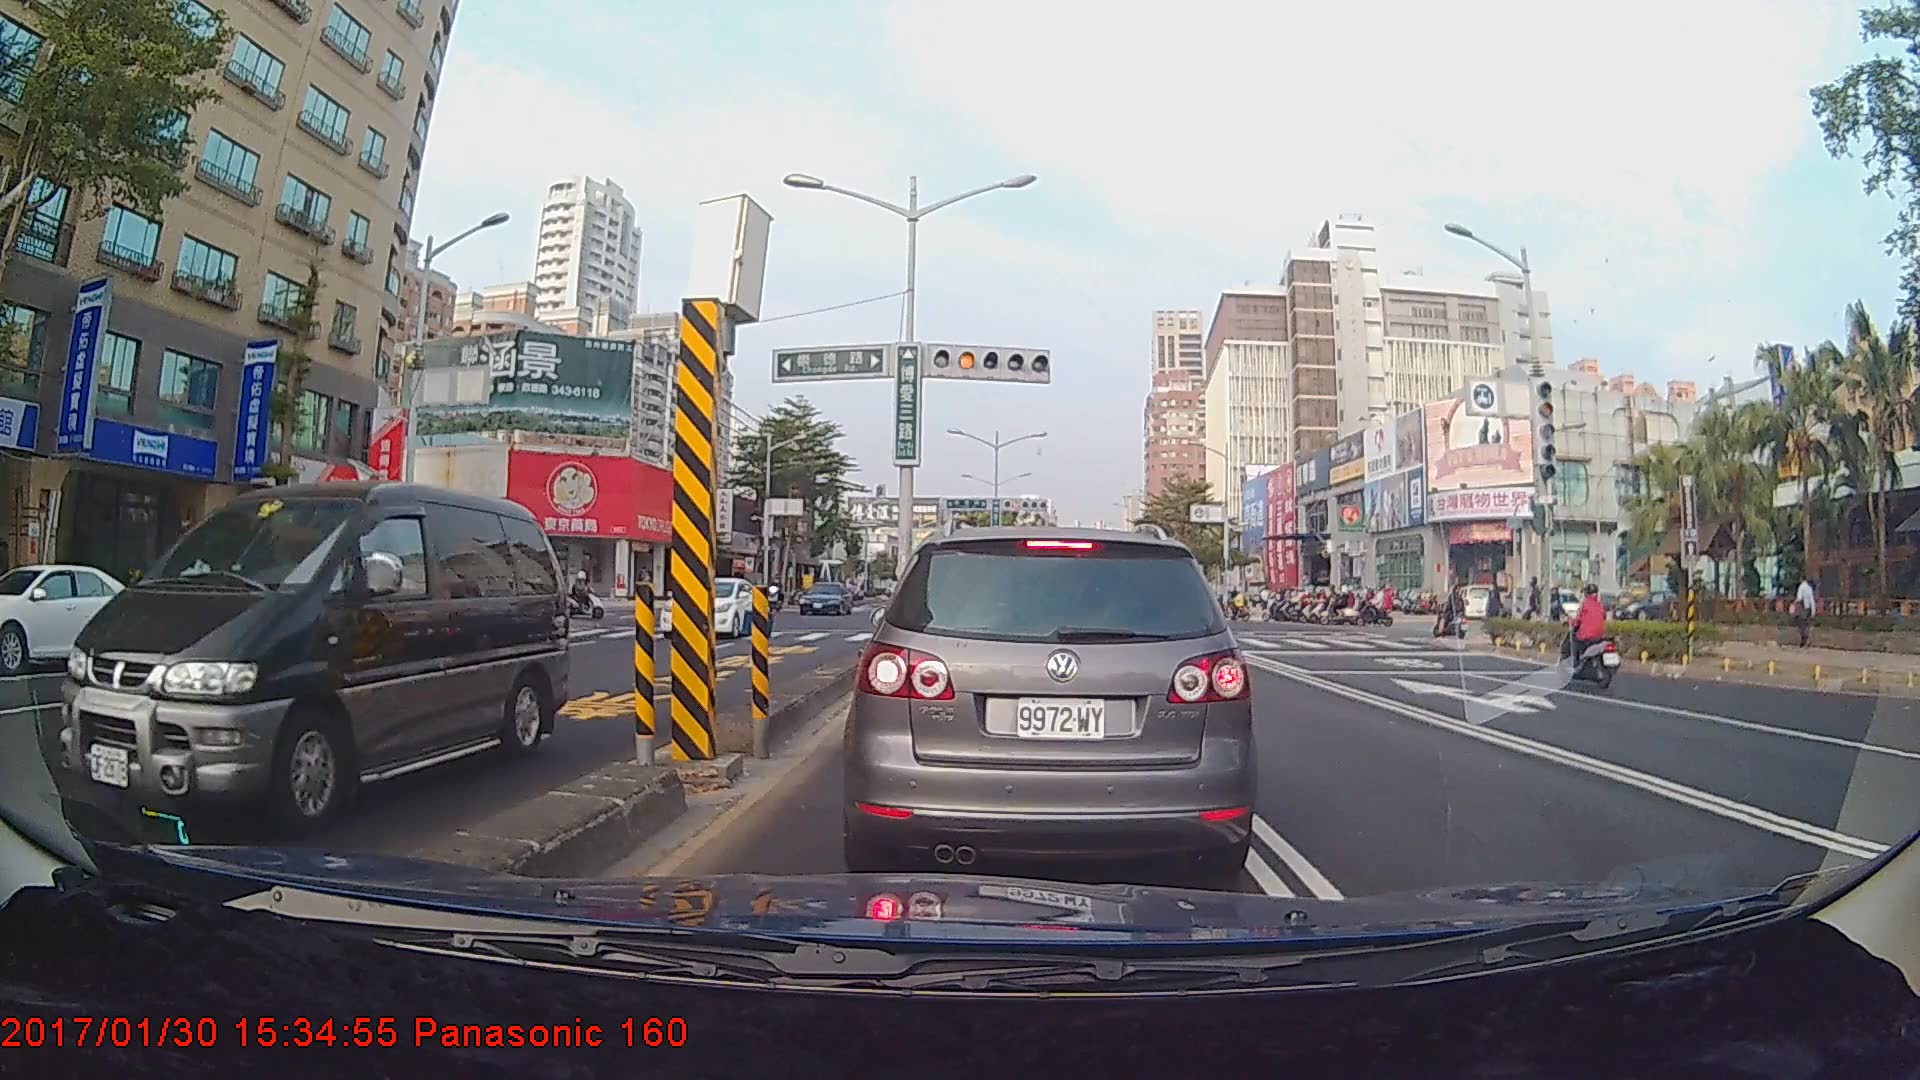pedestrian: (1789, 576, 1819, 648), (1484, 579, 1509, 637)
rider: (1558, 583, 1623, 682), (1436, 582, 1473, 646)
vehicle: (57, 480, 570, 834), (855, 522, 1251, 875), (0, 561, 162, 671), (661, 577, 762, 640), (797, 579, 850, 616)
